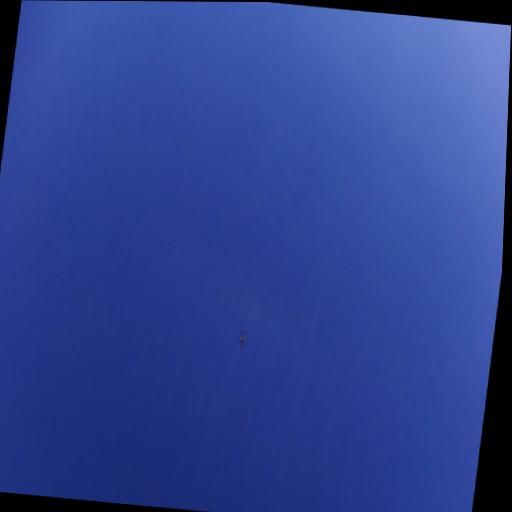drones: (235, 328, 252, 353)
